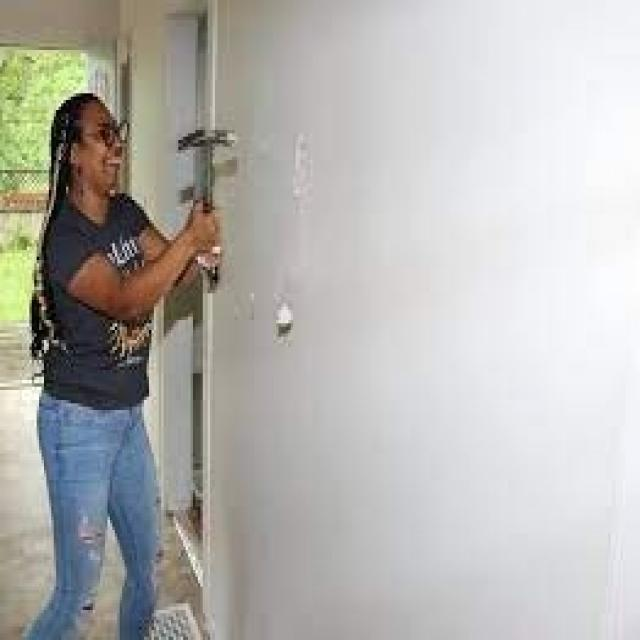walking: (7, 83, 237, 639)
